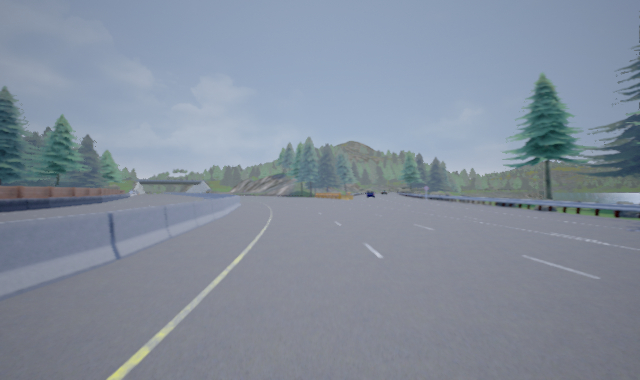vehicle: (366, 190, 376, 198)
